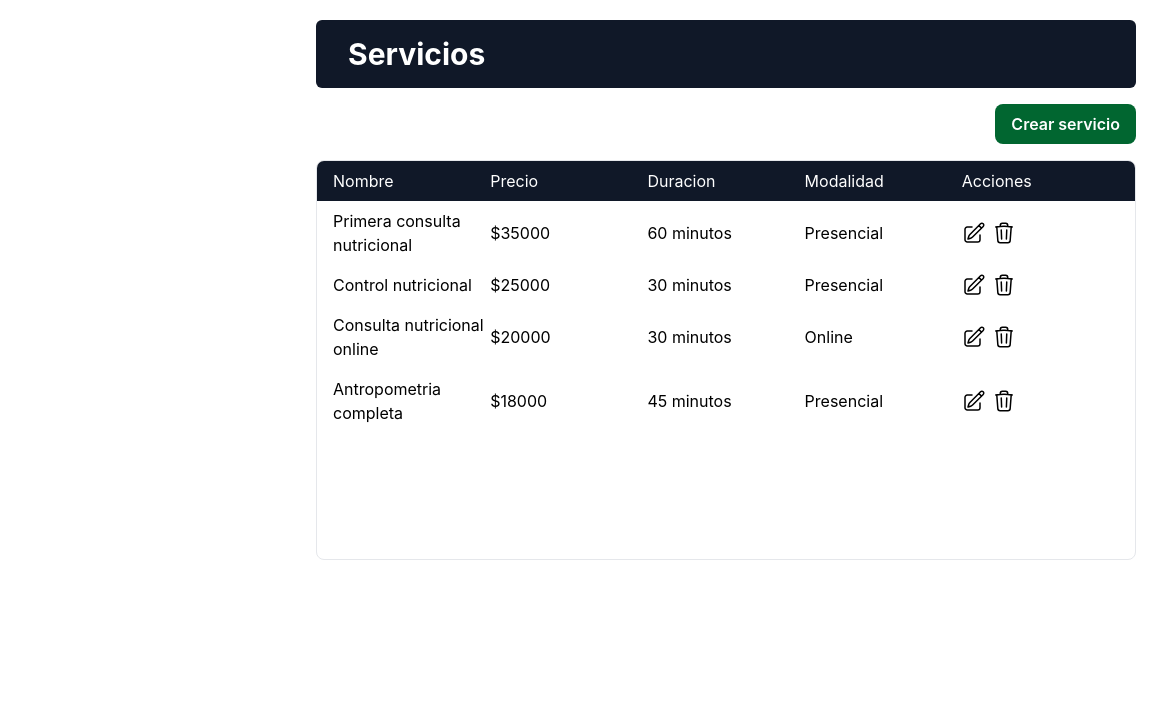
AdministracionServicios › edita un servicio existente
Click the 2nd button at (974, 233), box [962, 221, 986, 245]
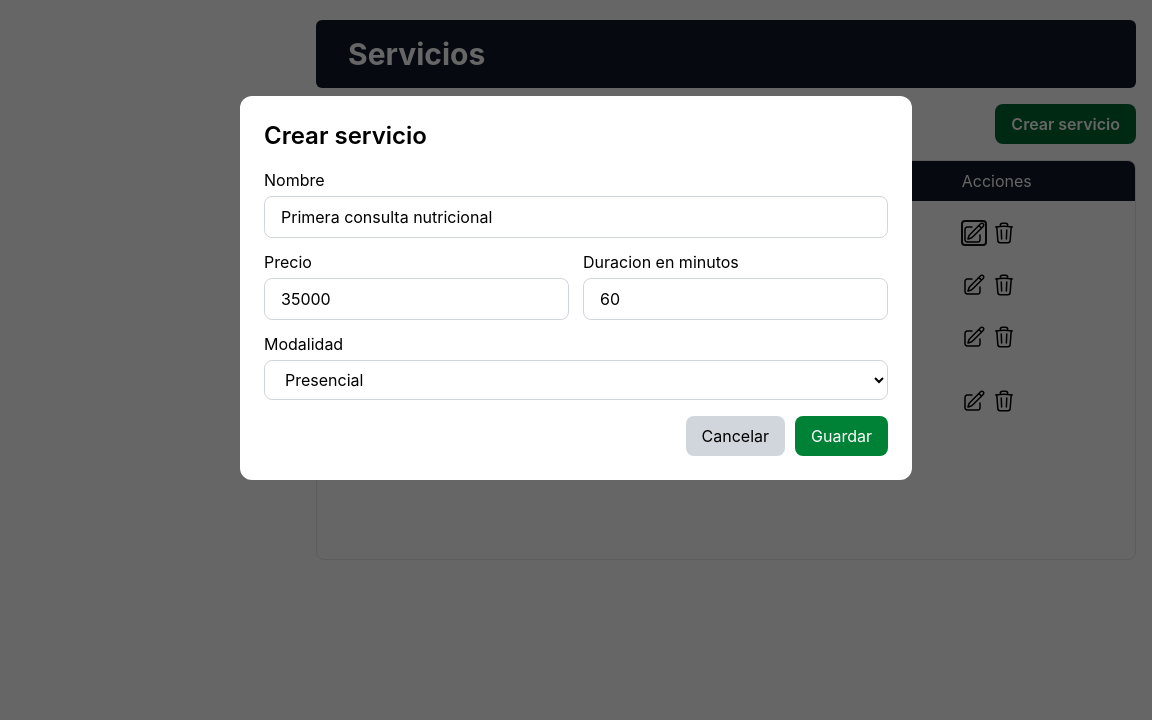
Replace the text in the field with placeholder "Nombre del servicio" with "Consulta nutricional actualizada" at (576, 217), box [264, 196, 888, 238]
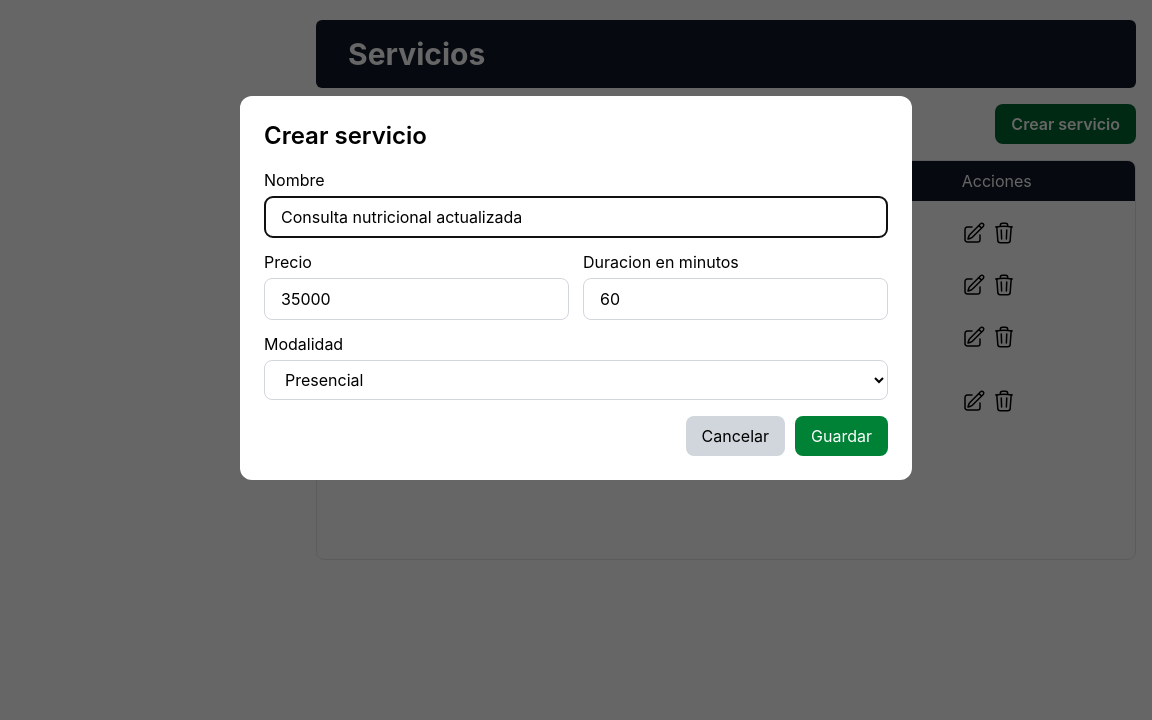
Click the button "Guardar" at (842, 436), box [795, 416, 888, 456]
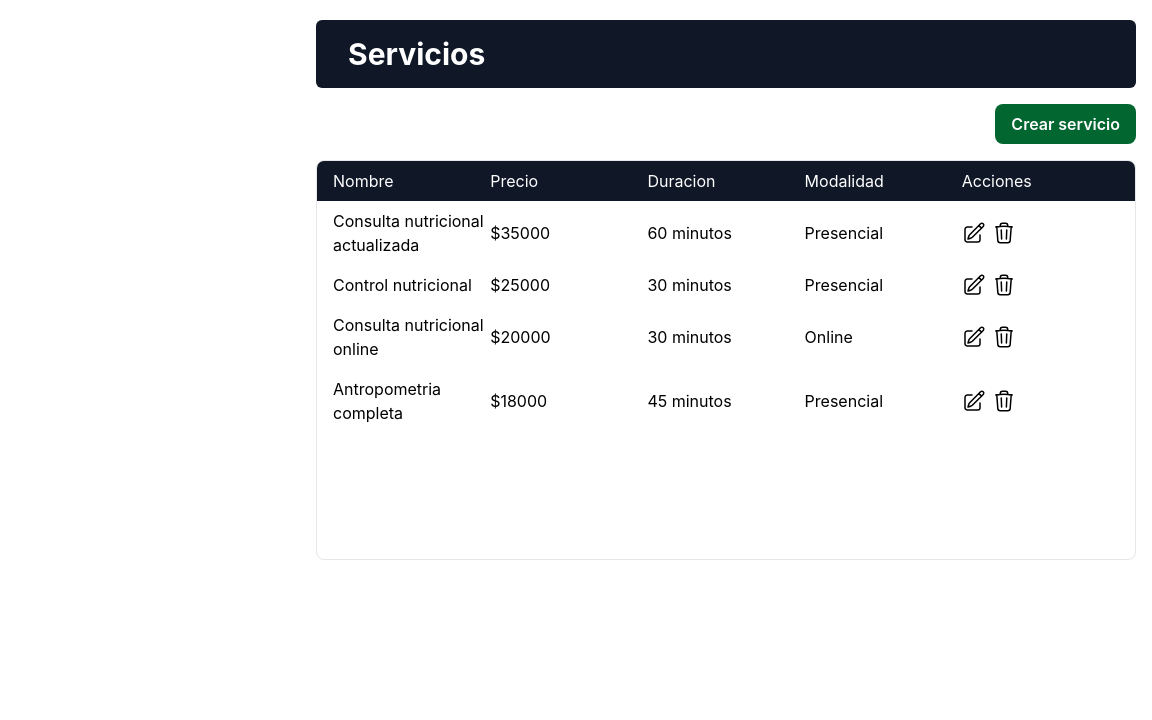
expect the text "Consulta nutricional actualizada" is shown: met, box [333, 209, 490, 257]
expect the text "Primera consulta nutricional" is gone: met
